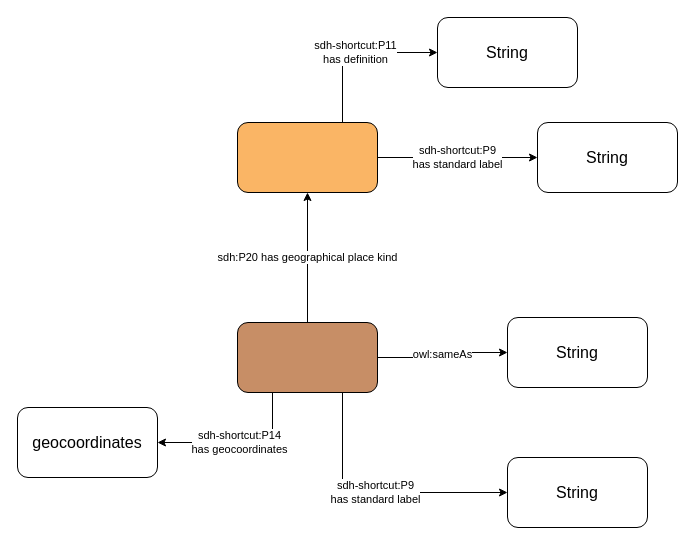
Image size: 695x545. Some labels were removed from this diagram. Here are the shapes that lost their labels. From the top down, the centre of each, then its label:
the point at 307,157: sdh:C51 Geographical Place Kind
the point at 307,357: sdh:C13 Geographical Place
